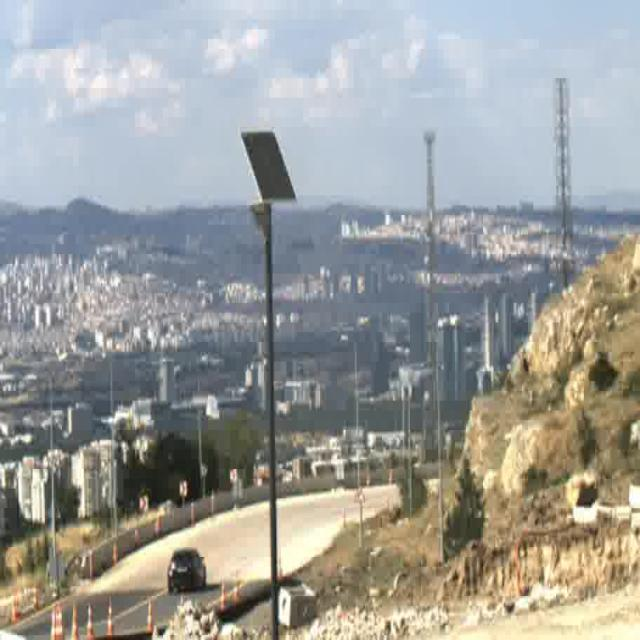Car: (168, 550, 206, 594)
